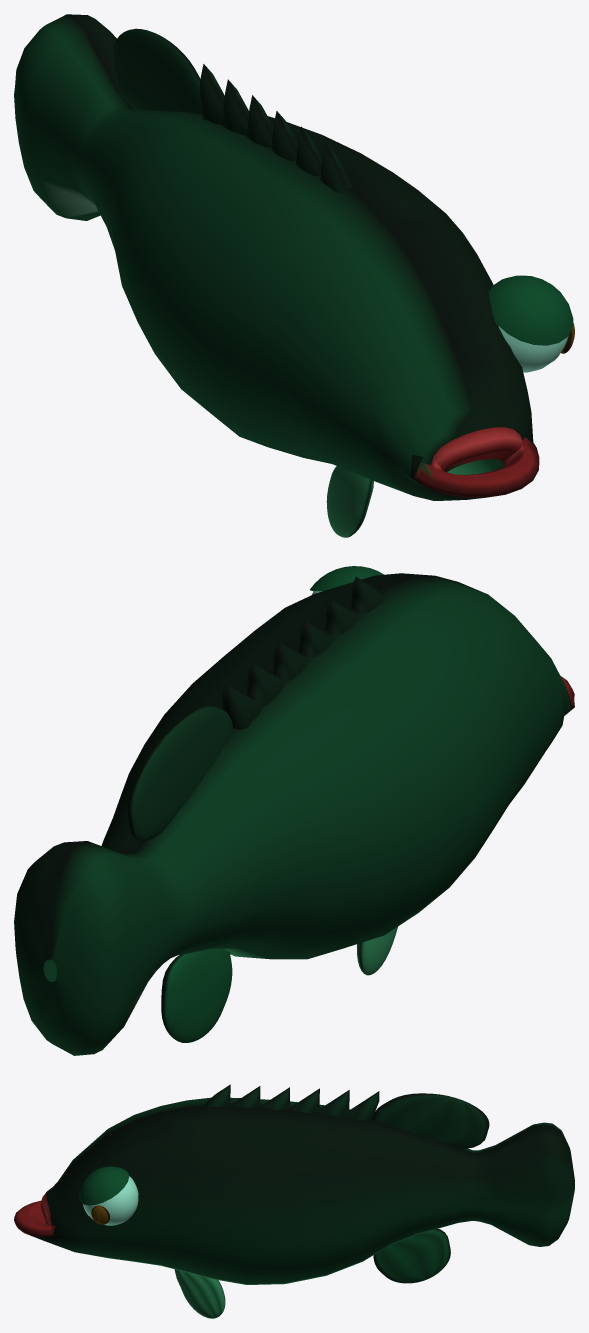
File: Enemy Grouper.fbx
The picture shows the model from 3 angles, top to bottom: view 1: azimuth 30°, elevation 25°; view 2: azimuth 150°, elevation 25°; view 3: azimuth 270°, elevation 25°; orthographic projection. The views are drawn at different scales.
Visible parts, largest first — view 1: Grouper; view 2: Grouper; view 3: Grouper.
Boxes of the visible parts, x1,y1,x2,y2 form: Grouper: (14,14,574,537); Grouper: (14,566,574,1055); Grouper: (14,1084,574,1318).
Bounding box in the file's own units: 1.79 × 2.43 × 5.27.
